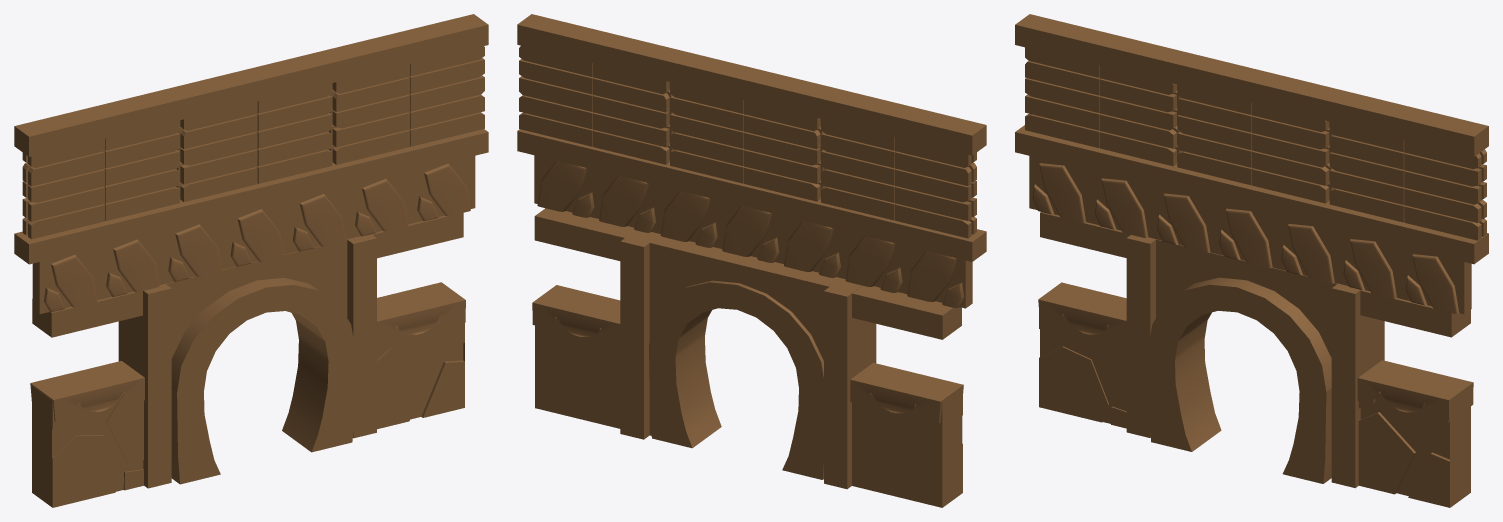
File: Muros2.obj
3 renders of one model, left to right at view 1: azimuth 30°, elevation 25°; view 2: azimuth 150°, elevation 25°; view 3: azimuth 330°, elevation 25°, orthographic.
Parts seen in each view (by area): view 1: pCube393, group pasted__pCylinder4, group pasted__pCube447, pCube425, group pasted__pCube3, group pasted__pCube8, pCube2, pCube10, group pasted__pCube6, group pasted__pCube11, pCube280, pCube5 (+31 smaller); view 2: pCube393, group pasted__pCube447, group pasted__pCylinder4, pCube425, group pasted__pCube3, pCube10, group pasted__pCube8, pCube2, group pasted__pCube6, group pasted__pCube11, pCube5, pCube280 (+31 smaller); view 3: pCube393, group pasted__pCylinder4, group pasted__pCube447, pCube425, group pasted__pCube8, group pasted__pCube3, group pasted__pCube6, pCube10, pCube2, pCube280, group pasted__pCube11, pCube380 (+31 smaller).
Boxes of the visible parts, x1,y1,x2,y2 form: pCube393: (32,156,475,314); group pasted__pCylinder4: (171,278,355,484); group pasted__pCube447: (14,14,488,156); pCube425: (14,129,488,264); group pasted__pCube3: (32,386,143,507); group pasted__pCube8: (377,314,464,429); pCube2: (118,284,171,488); pCube10: (165,239,347,358); group pasted__pCube6: (347,234,376,438); group pasted__pCube11: (30,361,144,422); pCube280: (377,282,465,345); pCube5: (32,291,142,337); pCube393: (534,155,972,308); group pasted__pCube447: (517,14,986,155); group pasted__pCylinder4: (649,280,823,479); pCube425: (517,129,986,261); group pasted__pCube3: (852,387,962,507); pCube10: (649,235,840,435); group pasted__pCube8: (535,318,620,428); pCube2: (824,278,876,489); group pasted__pCube6: (620,230,660,439); group pasted__pCube11: (850,363,963,423); pCube5: (852,286,961,339); pCube280: (532,285,620,347); pCube393: (1029,156,1471,314); group pasted__pCylinder4: (1148,277,1331,483); group pasted__pCube447: (1015,14,1488,156); pCube425: (1015,125,1488,264); group pasted__pCube8: (1358,386,1470,507); group pasted__pCube3: (1039,311,1126,428); group pasted__pCube6: (1331,283,1384,488); pCube10: (1156,239,1337,357); pCube2: (1126,235,1155,437); pCube280: (1357,360,1473,422); group pasted__pCube11: (1038,282,1126,343); pCube380: (1360,290,1470,337).
Size of the model in its own units: 7.39 by 5.79 by 0.9198.
Materials: 14 (13 with a texture image).
